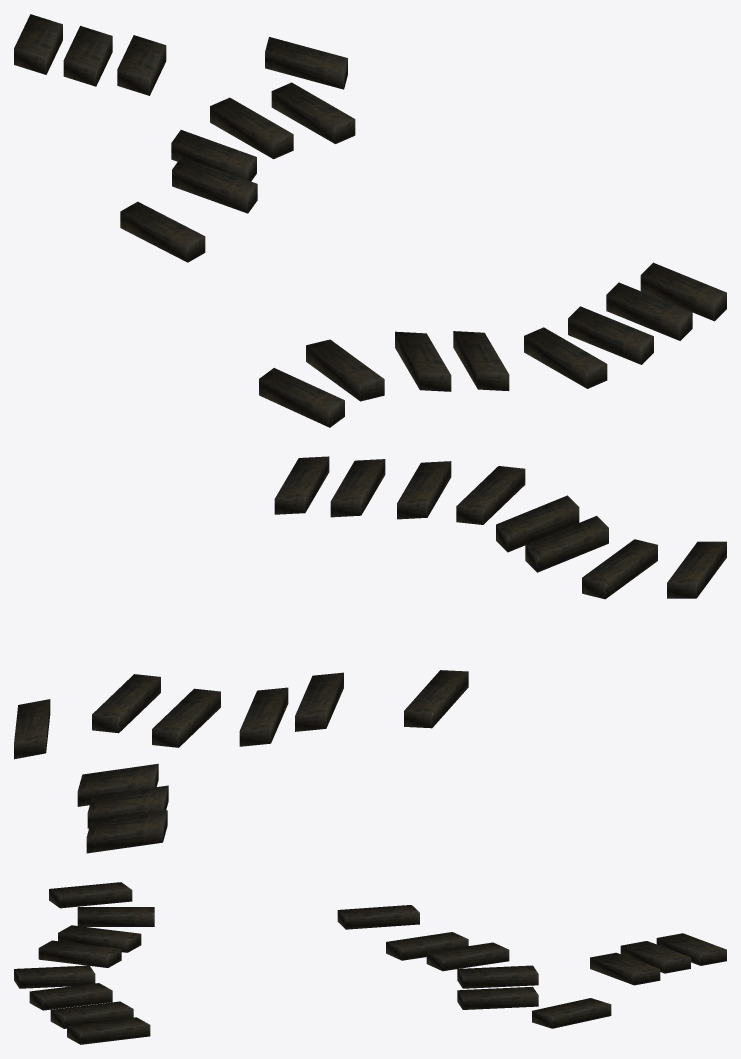
Rendered from Tile04.obj.
3 renders of one model, top to bottom at view 1: azimuth 30°, elevation 25°; view 2: azimuth 150°, elevation 25°; view 3: azimuth 270°, elevation 25°, orthographic. The views are drawn at different scales.
Visible parts, largest first — view 1: Box002; view 2: Box002; view 3: Box002.
Part boxes in pixels (box(x1,y1,x2,y2)): Box002: box(14, 14, 726, 427); Box002: box(14, 456, 726, 853); Box002: box(14, 882, 726, 1044).
Size of the model in its own units: 220 by 9.78 by 439.
Materials: 1 (1 with a texture image).
